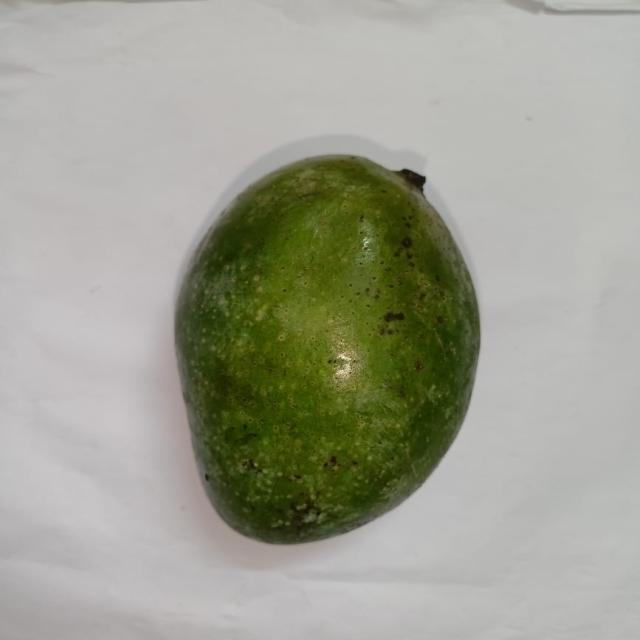rotten_mango: (182, 155, 479, 544)
